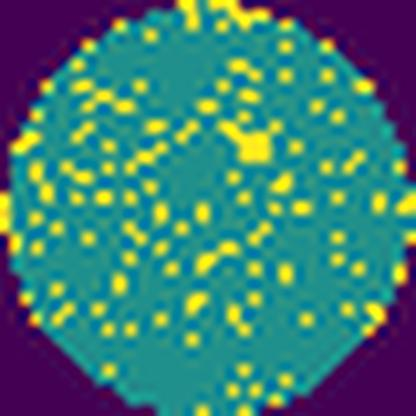Loc: (220, 117, 284, 166)
